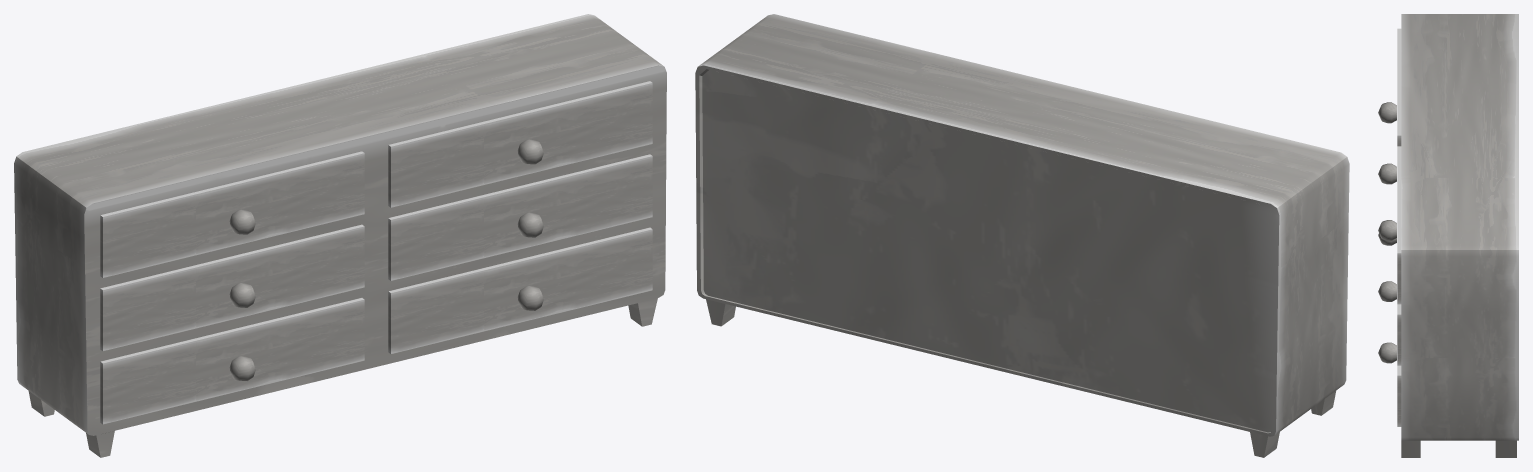
Rendered from schubladenschrank2.fbx.
3 views of the same model, side by side, from view 1: azimuth 30°, elevation 25°; view 2: azimuth 150°, elevation 25°; view 3: azimuth 270°, elevation 25° (orthographic). The views are drawn at different scales.
Visible parts, largest first — view 1: 1; view 2: 1; view 3: 1.
Part boxes in pixels (x1,y1,x2,y2): 1: [14, 14, 666, 457]; 1: [695, 14, 1349, 457]; 1: [1378, 14, 1518, 457].
Bounding box in the file's own units: 383 × 162 × 95.8.
